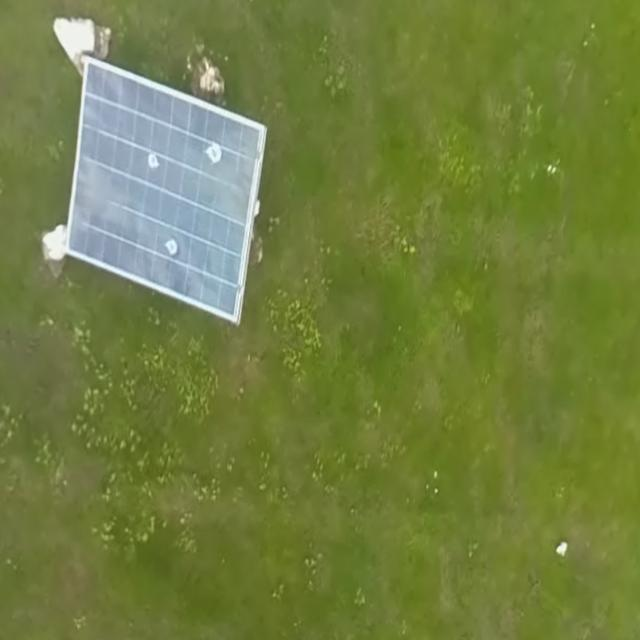Bird-drop: (205, 137, 223, 166), (164, 236, 179, 261), (146, 148, 161, 172)
